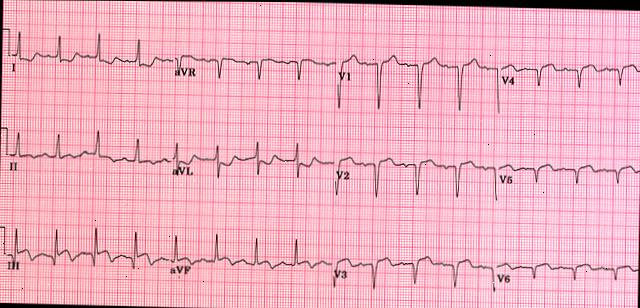Lead_I: (7, 26, 175, 85)
Lead_II: (4, 122, 172, 183)
Lead_III: (2, 222, 170, 280)
Lead_V1: (333, 41, 501, 114)
Lead_V2: (333, 142, 500, 203)
Lead_V3: (329, 242, 496, 298)
Lead_V4: (500, 48, 640, 96)
Lead_V5: (495, 147, 640, 196)
Lead_V6: (492, 247, 638, 299)
Lead_aVF: (167, 225, 334, 286), (168, 227, 332, 279)
Lead_aVL: (168, 135, 336, 187)
Lead_aVR: (171, 40, 337, 93)
